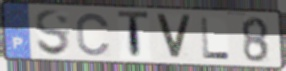8: (240, 16, 271, 63)
C: (75, 12, 113, 58)
L: (199, 16, 233, 61)
S: (33, 8, 72, 59)
T: (116, 10, 151, 62)
V: (153, 12, 194, 62)
